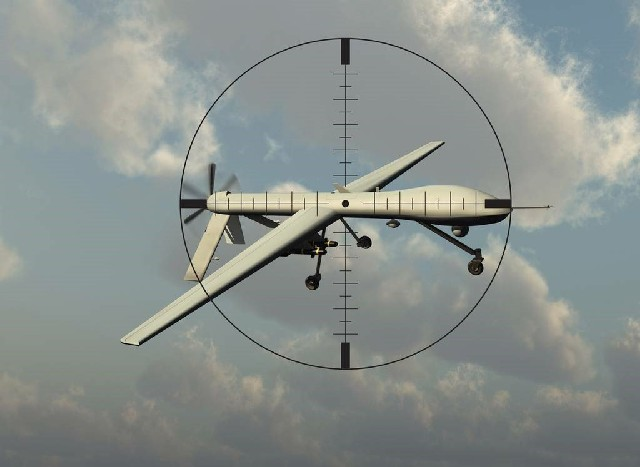maybay_khongnguoilai: (128, 151, 544, 373)
